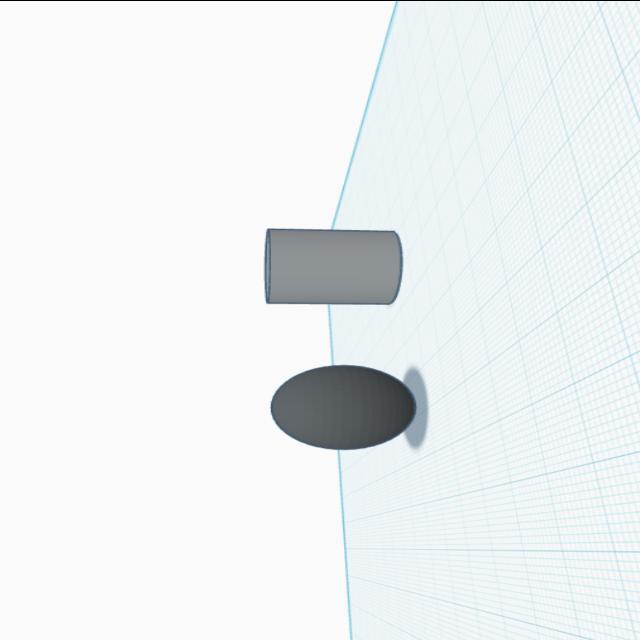sphere: (264, 362, 422, 452)
